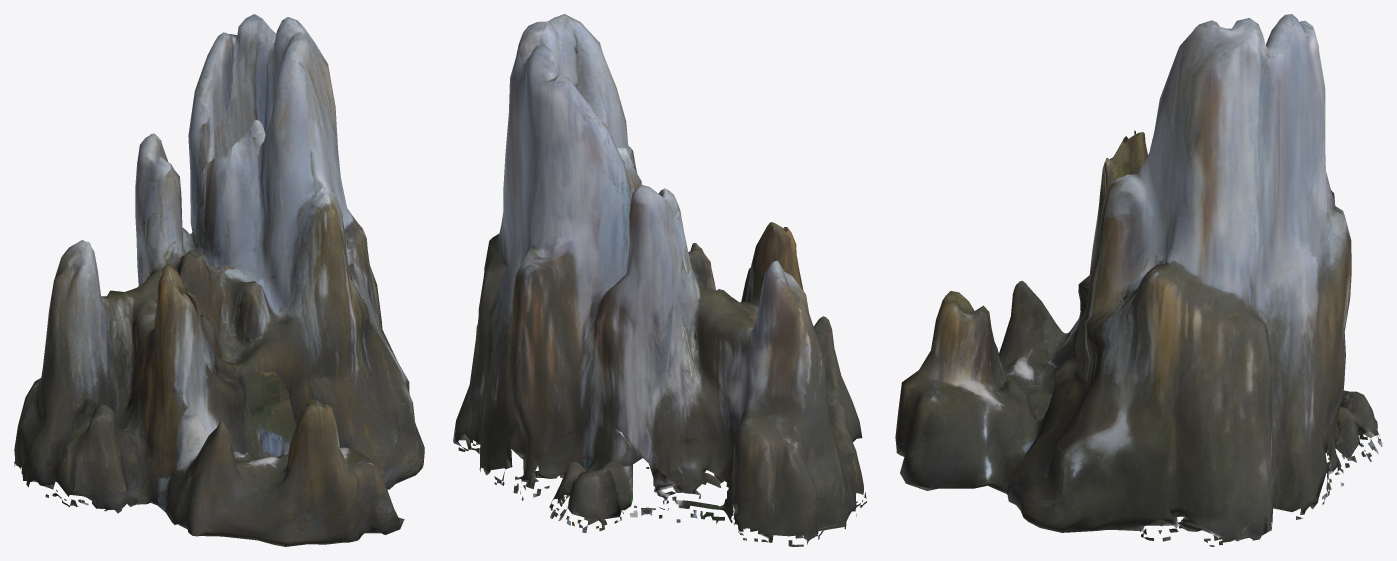
File: 중국_신화속_구름_0728100244_texture.fbx
3 views of the same model, side by side, from view 1: azimuth 30°, elevation 25°; view 2: azimuth 150°, elevation 25°; view 3: azimuth 270°, elevation 25° (orthographic). The views are drawn at different scales.
Parts seen in each view (by area): view 1: Mesh1.0; view 2: Mesh1.0; view 3: Mesh1.0.
Part boxes in pixels (left/top/right/bottom): Mesh1.0: left=14, top=14, right=424, bottom=546; Mesh1.0: left=453, top=14, right=866, bottom=546; Mesh1.0: left=895, top=14, right=1382, bottom=546.
Size of the model in its own units: 182 by 198 by 181.
1 material, 1 textured.
